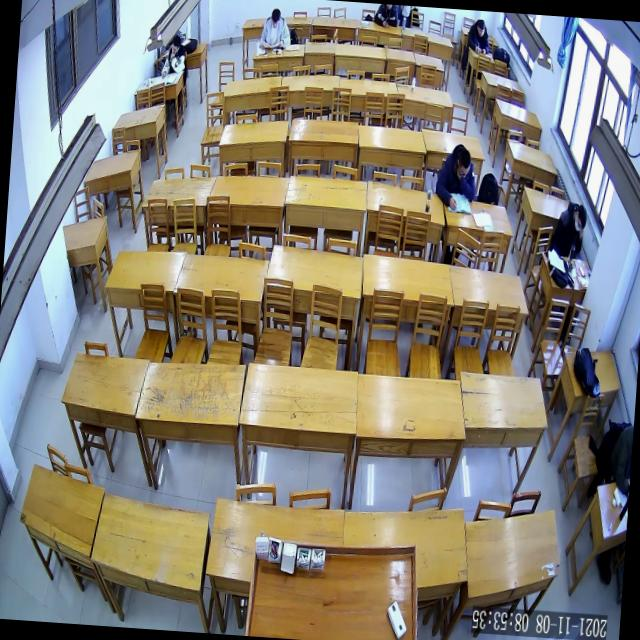down: (456, 148, 472, 179), (574, 203, 588, 232), (270, 7, 281, 28), (171, 34, 181, 54), (476, 18, 485, 37)
sit: (434, 142, 479, 211), (549, 200, 588, 258), (258, 5, 292, 50), (161, 34, 189, 77), (466, 18, 491, 54), (478, 46, 486, 54)
